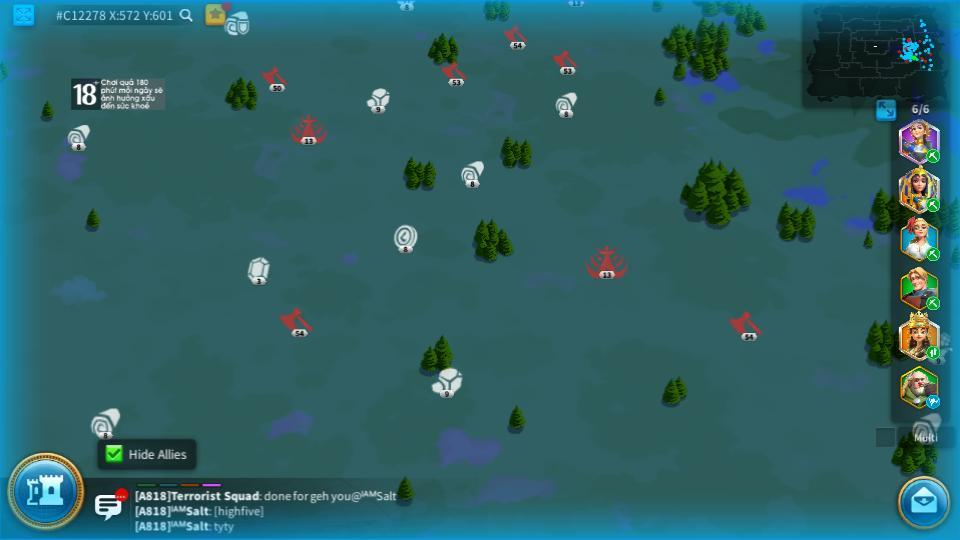gem-z-out: (245, 257, 270, 283)
march_farming: (925, 345, 942, 361), (923, 197, 940, 212), (925, 149, 941, 162), (925, 297, 941, 308)
march_idle: (925, 395, 941, 407)
